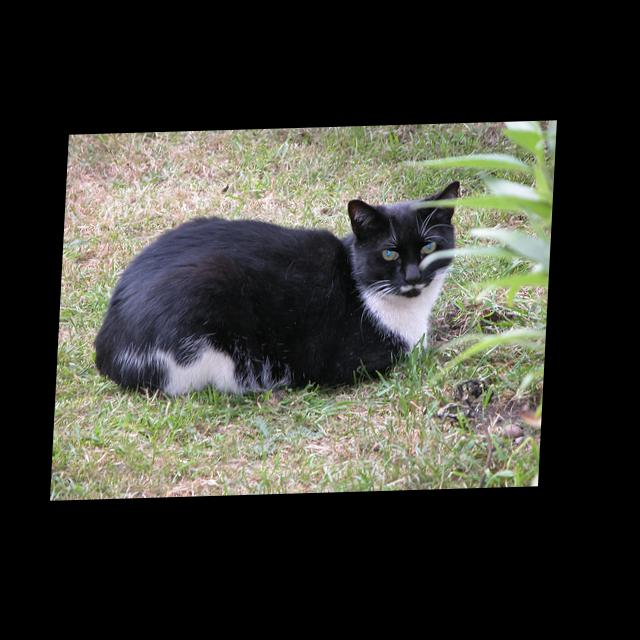animals: (349, 183, 460, 289)
